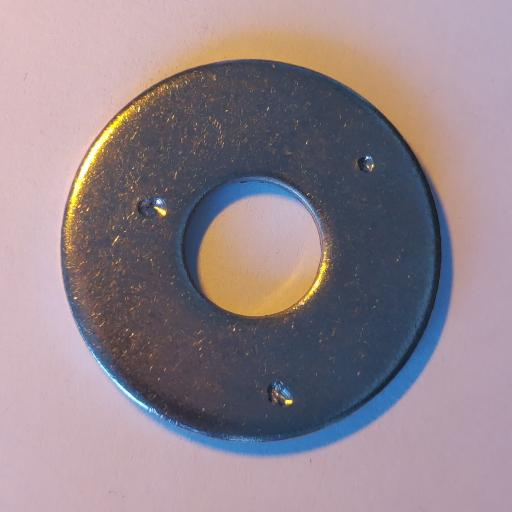circular_cavity: (267, 379, 294, 408), (138, 196, 168, 220), (357, 156, 375, 173)
